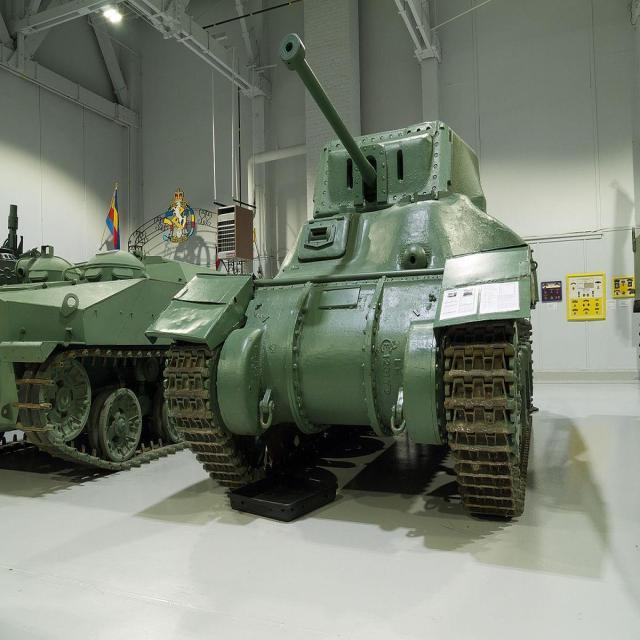MIL_MBT: (169, 97, 546, 524), (4, 198, 172, 474)
